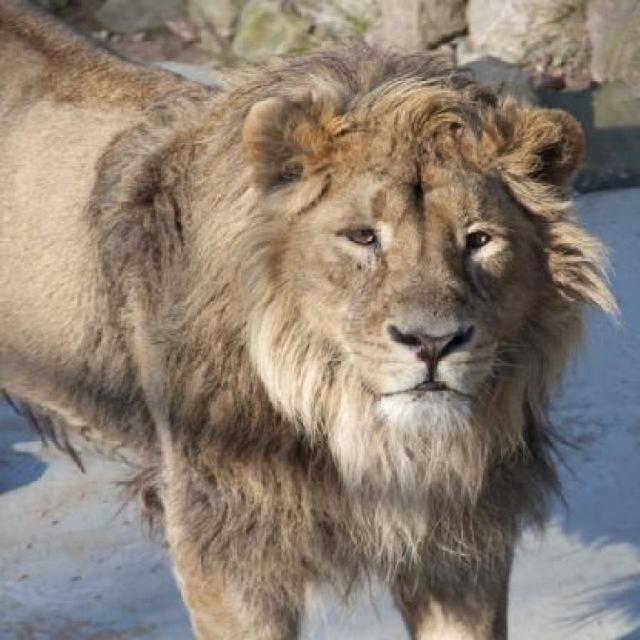Lion: (6, 12, 622, 638)
